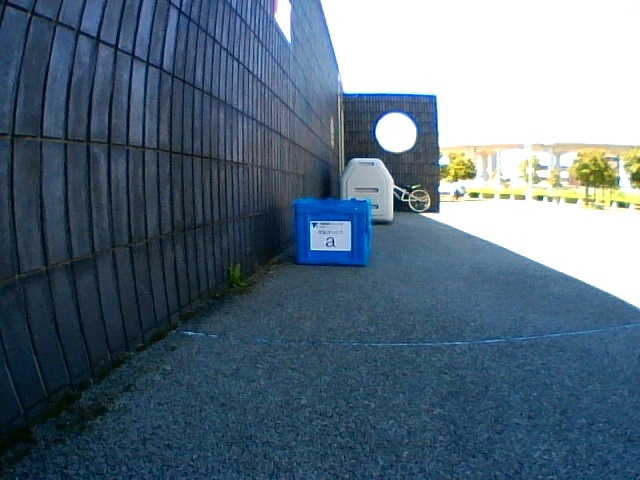blue_box: (294, 199, 370, 265)
tag_a: (312, 222, 349, 250)
